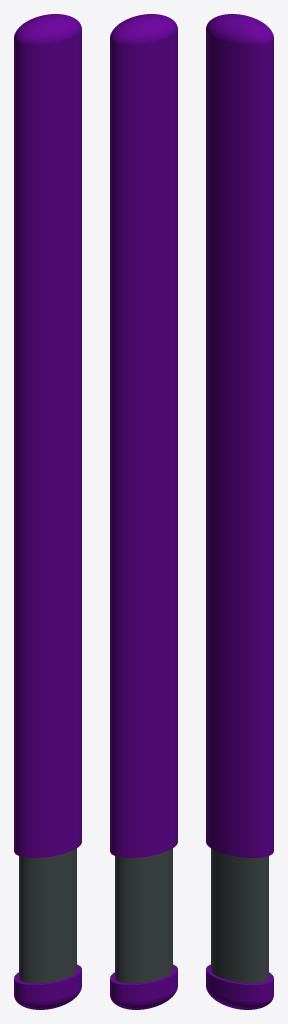
The model's file is mechh1.fbx.
The picture shows the model from 3 angles, left to right: view 1: azimuth 30°, elevation 25°; view 2: azimuth 210°, elevation 25°; view 3: azimuth 330°, elevation 25°; orthographic projection.
Parts seen in each view (by area): view 1: Sphere; view 2: Sphere; view 3: Sphere.
Boxes of the visible parts, bbox=[...] form: Sphere: bbox=[14, 14, 81, 1009]; Sphere: bbox=[110, 14, 177, 1009]; Sphere: bbox=[206, 14, 273, 1009].
Size of the model in its own units: 205 by 3034 by 127.
